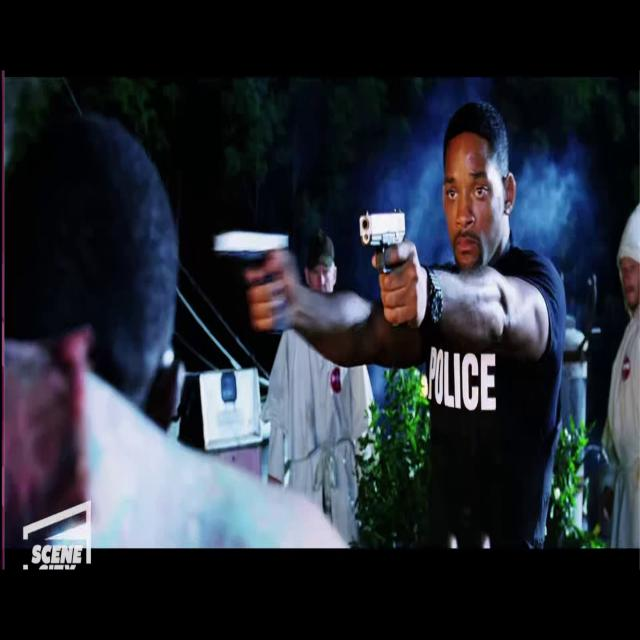weapons: (200, 215, 298, 333), (350, 198, 427, 329)
